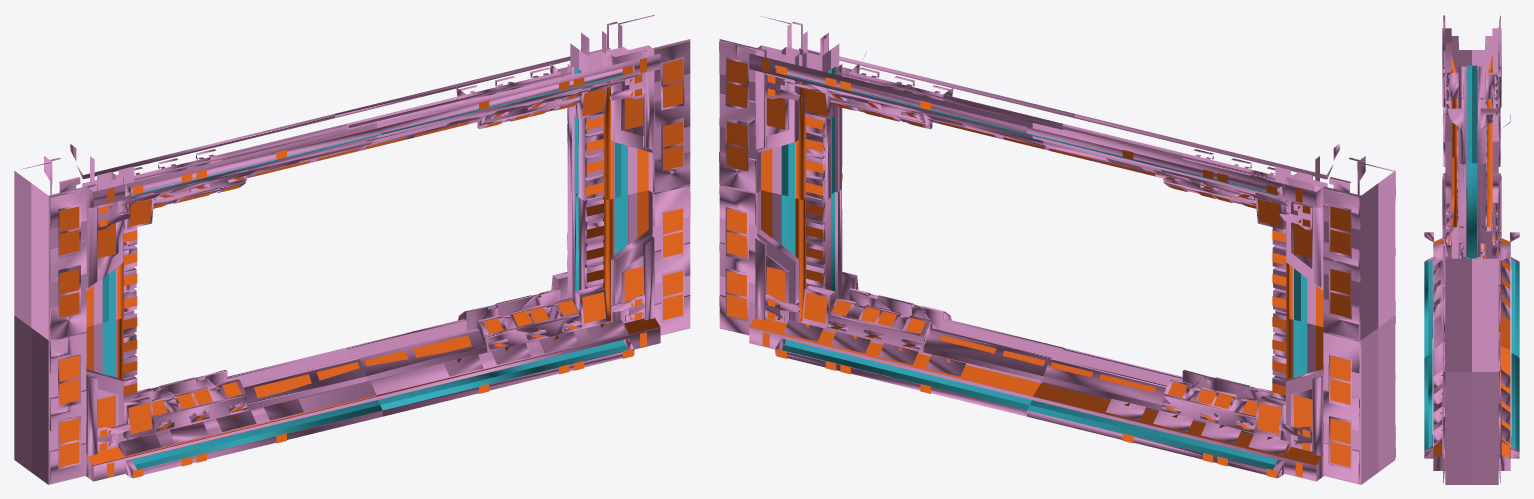
The model's file is grimhex_building_3_floor_landingpad_corner_72x32_a_lod2.glb.
3 renders of one model, left to right at view 1: azimuth 30°, elevation 25°; view 2: azimuth 150°, elevation 25°; view 3: azimuth 270°, elevation 25°, orthographic. The views are drawn at different scales.
Size of the model in its own units: 102 by 44.21 by 16.86.
